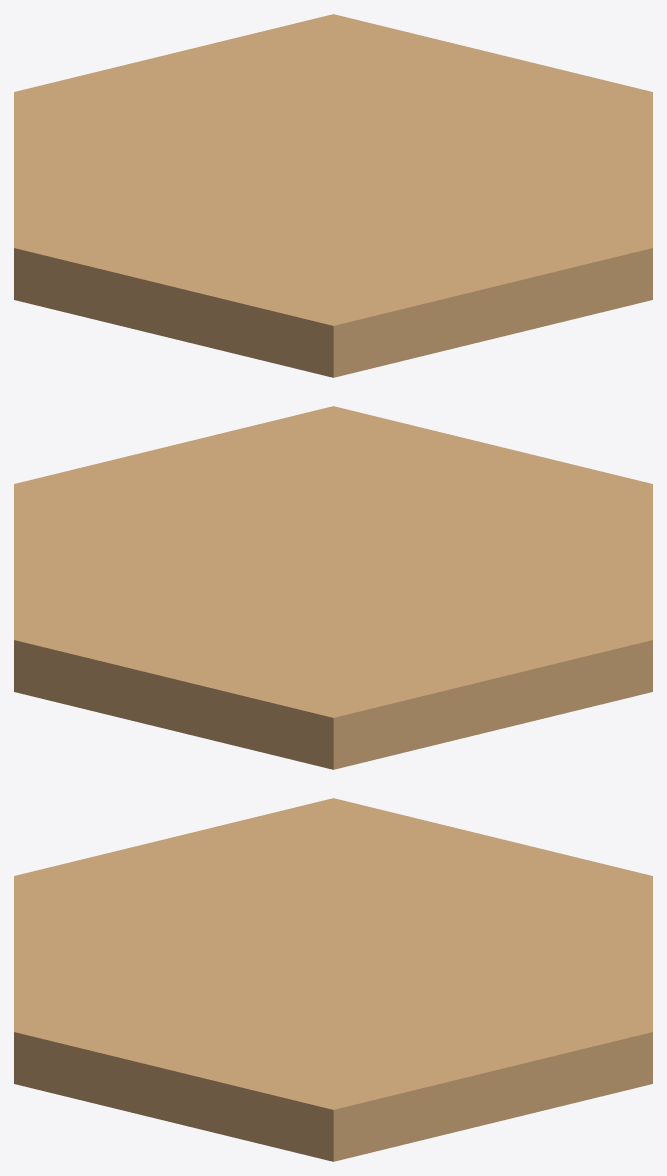
3 renders of one model, top to bottom at view 1: azimuth 30°, elevation 25°; view 2: azimuth 150°, elevation 25°; view 3: azimuth 270°, elevation 25°, orthographic.
Visible parts, largest first — view 1: Base_1; view 2: Base_1; view 3: Base_1.
Part boxes in pixels (box(x1,y1,x2,y2)): Base_1: box(14, 14, 652, 377); Base_1: box(14, 406, 652, 769); Base_1: box(14, 798, 652, 1161).
Size of the model in its own units: 2318 by 2007 by 180.
